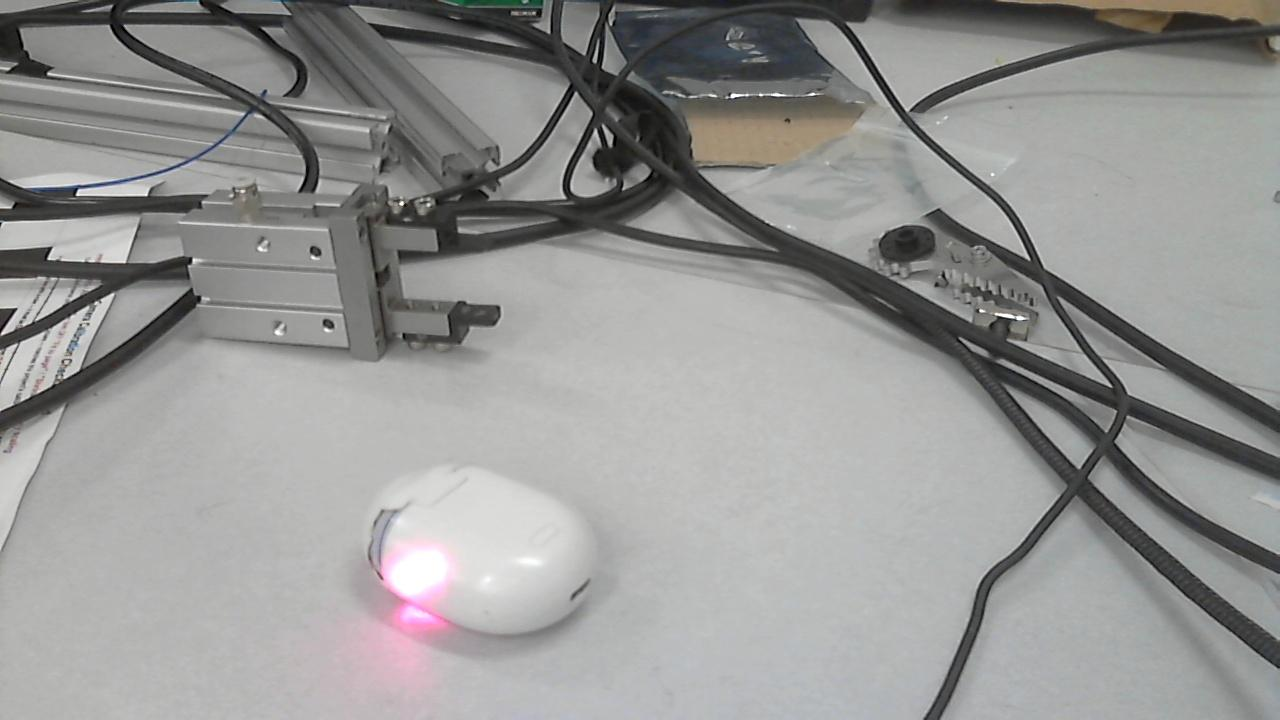Object wireless earbud charging case - Material plastic - Pdfname qzJIPQkli2jB: (345, 532, 480, 604)
